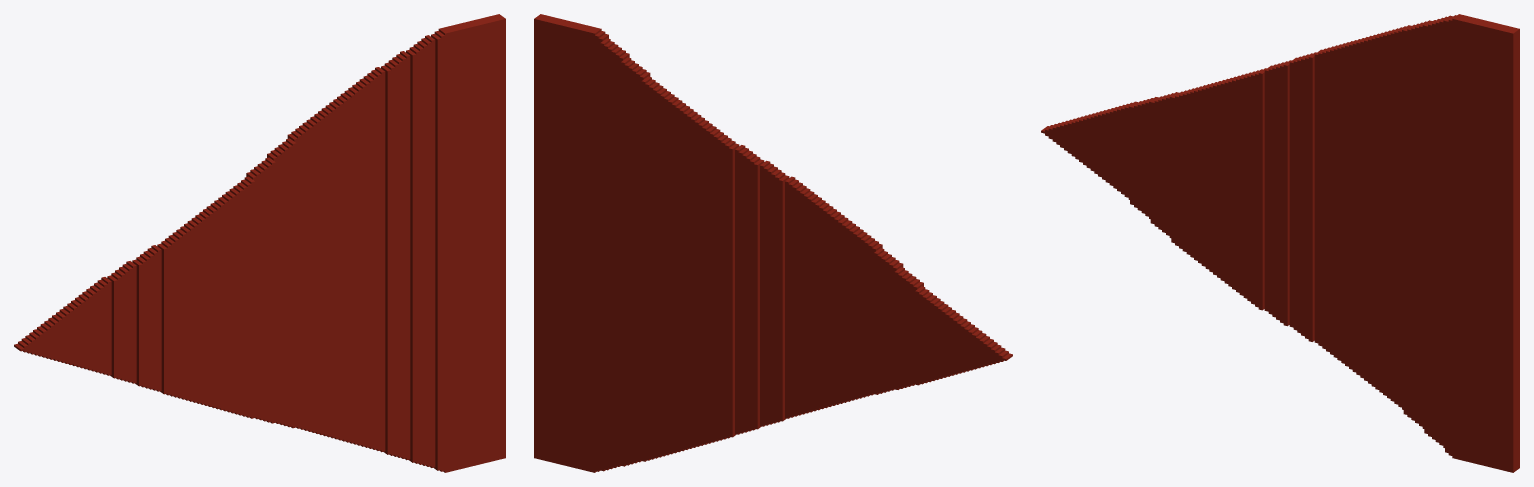
Rendered from flag_full2-0.obj.
The picture shows the model from 3 angles, left to right: view 1: azimuth 30°, elevation 25°; view 2: azimuth 150°, elevation 25°; view 3: azimuth 330°, elevation 25°; orthographic projection.
Size of the model in its own units: 25.2 by 22.1 by 1.2.
Materials: 1 (1 with a texture image).
